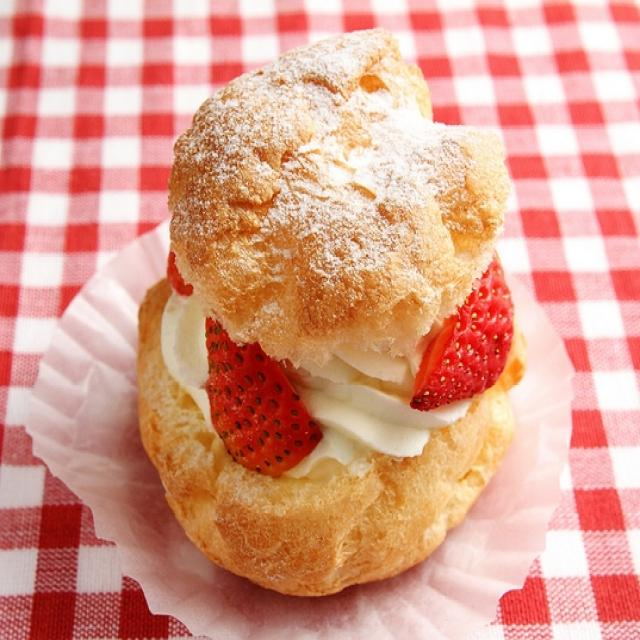炸货点心: (75, 15, 561, 607)
蛋糕甜品: (75, 15, 561, 607)
